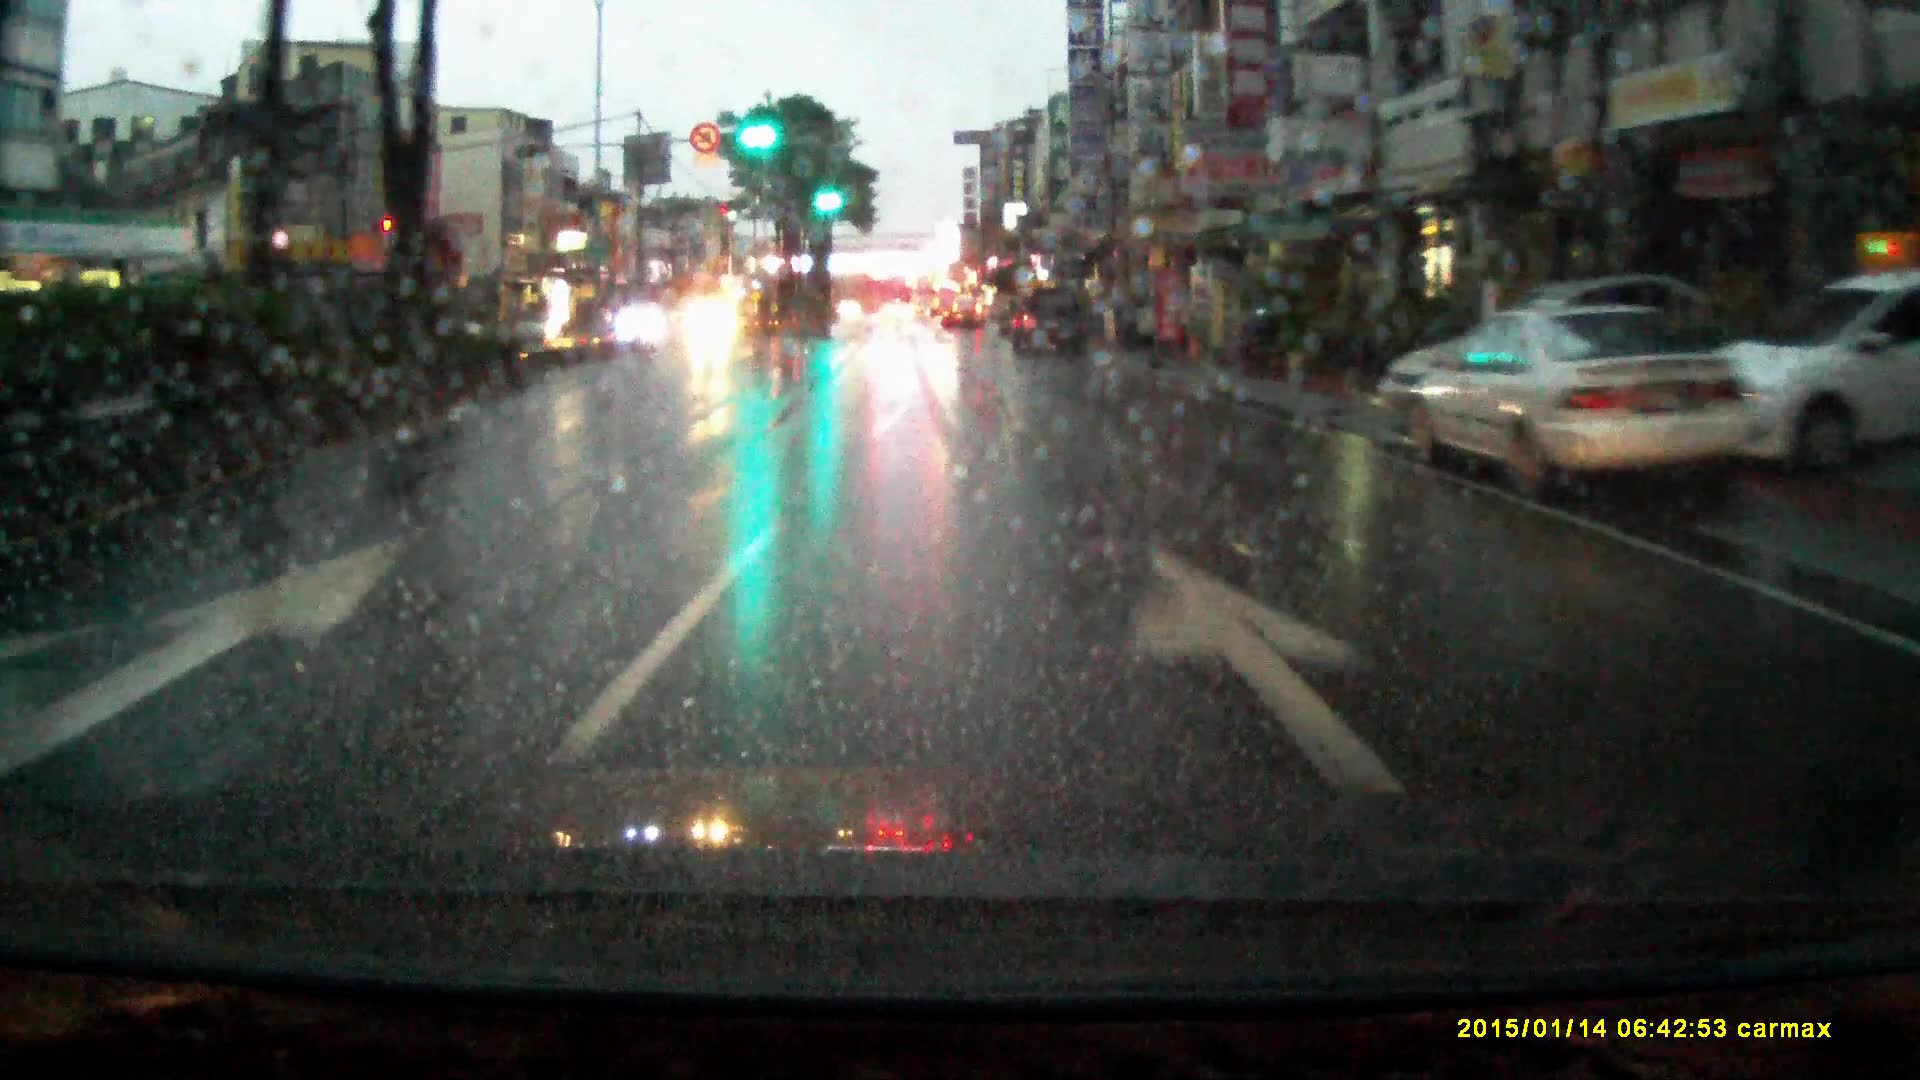vehicle: (1408, 306, 1763, 506), (1722, 273, 1912, 484), (1011, 284, 1095, 359), (678, 301, 745, 352), (615, 305, 669, 348), (913, 273, 943, 322), (943, 295, 984, 331), (881, 301, 918, 324)
